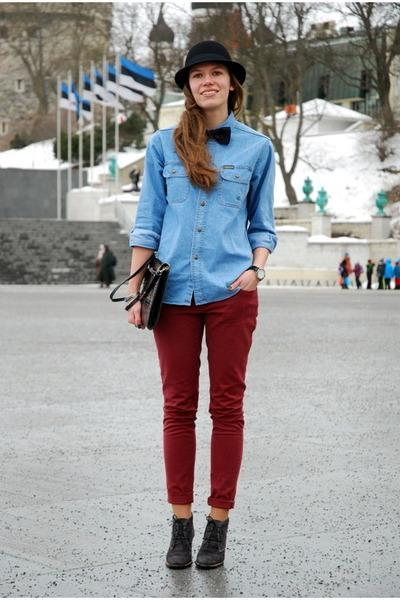bag: (132, 251, 179, 340)
hat: (171, 41, 245, 95)
pants: (156, 288, 257, 515)
shirt: (120, 108, 285, 305)
shoe: (166, 516, 227, 571)
